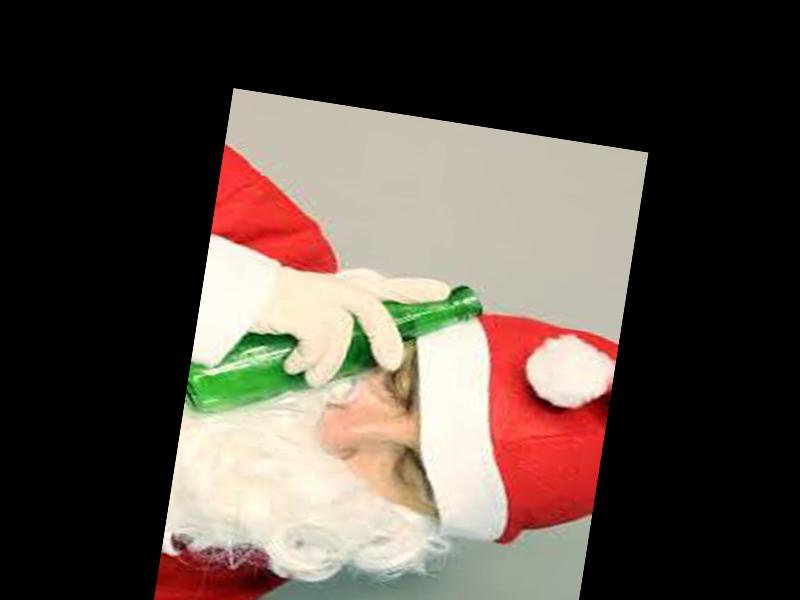Beer: (183, 244, 483, 449)
